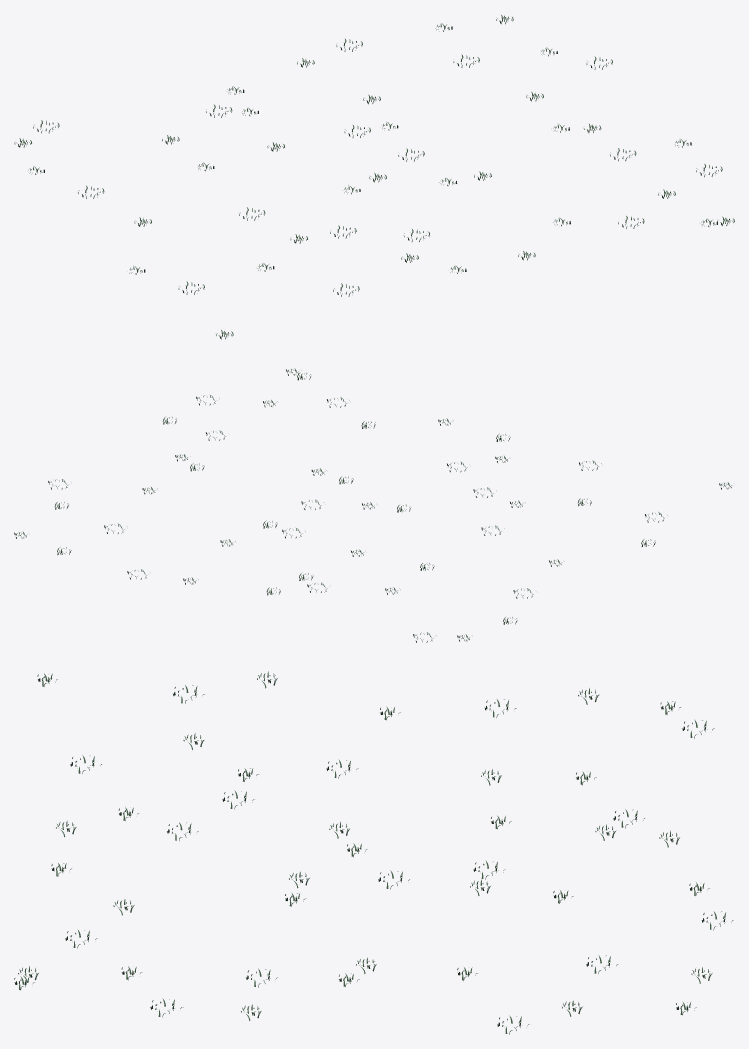
File: weeds.fbx
The picture shows the model from 3 angles, top to bottom: view 1: azimuth 30°, elevation 25°; view 2: azimuth 150°, elevation 25°; view 3: azimuth 270°, elevation 25°; orthographic projection. The views are drawn at different scales.
Parts seen in each view (by area): view 1: Random; view 2: Random; view 3: Random.
Part boxes in pixels (x1,y1,x2,y2): Random: (14, 15, 734, 339); Random: (14, 368, 731, 642); Random: (14, 671, 733, 1034).
Size of the model in its own units: 3378 by 30.17 by 2871.
